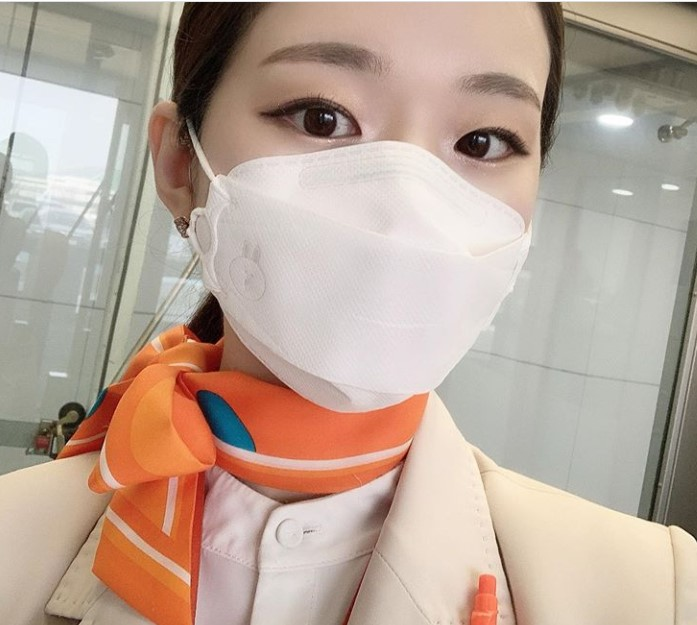face_with_mask: (145, 0, 570, 418)
